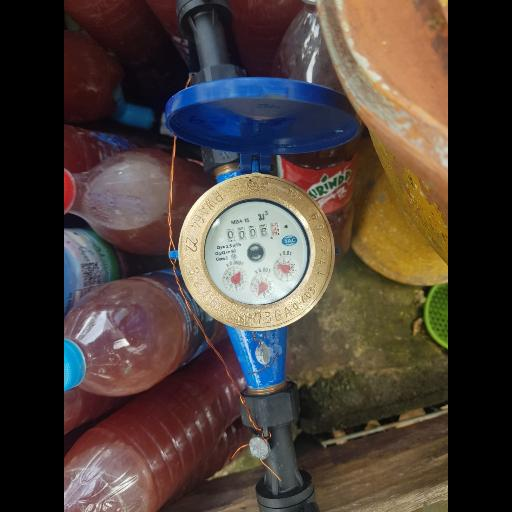0: (226, 228, 236, 242), (237, 227, 247, 241), (248, 225, 258, 239)
4: (270, 222, 280, 236)
6: (259, 223, 269, 237)
border_water_meter_number: (224, 221, 282, 246)
